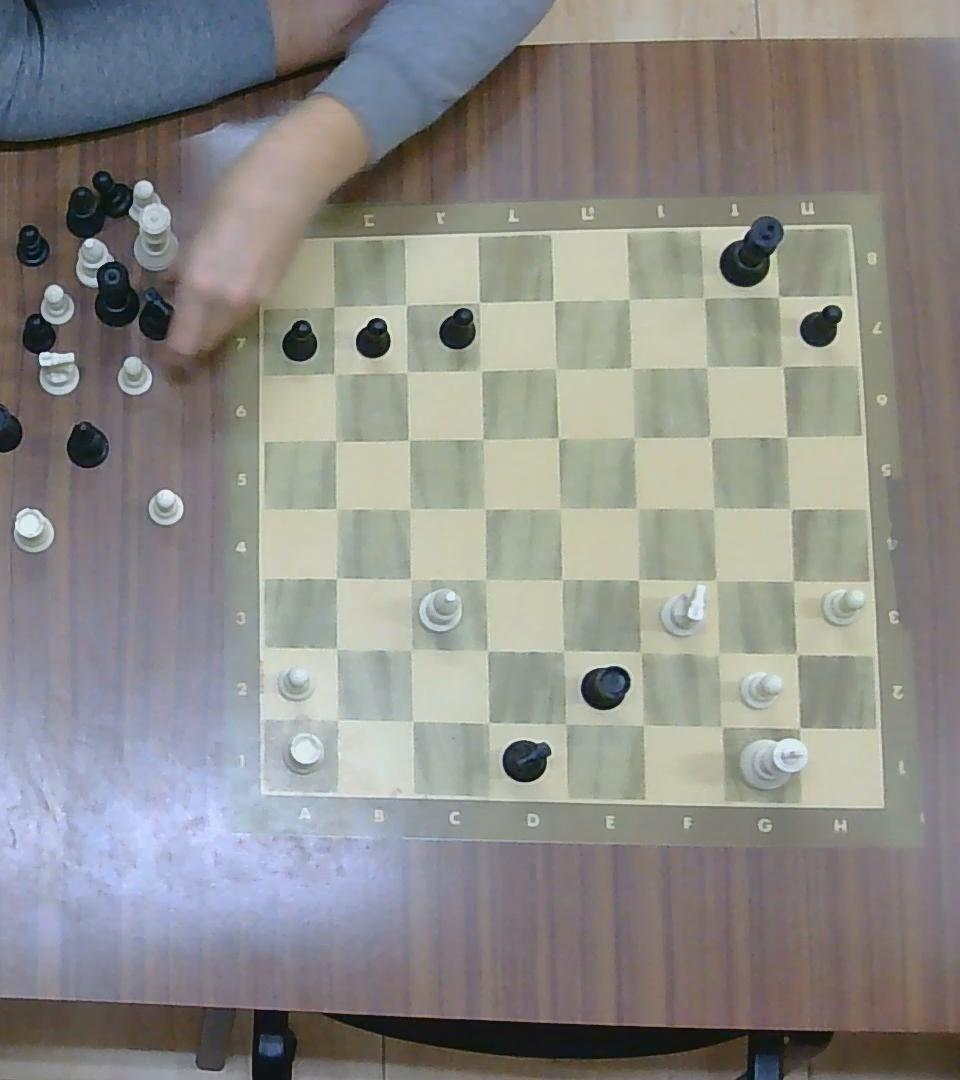xcorner: (781, 710, 815, 743), (701, 638, 735, 670), (705, 708, 736, 742), (548, 706, 580, 738), (626, 708, 658, 739), (320, 703, 352, 734), (472, 706, 503, 737), (781, 637, 812, 668), (625, 636, 656, 666), (396, 705, 427, 735), (471, 634, 501, 664), (623, 563, 652, 594), (622, 492, 651, 523), (548, 563, 577, 594), (700, 564, 730, 593), (698, 493, 728, 522), (395, 635, 425, 664), (615, 284, 645, 313), (470, 564, 500, 593), (776, 493, 806, 522), (471, 493, 500, 522), (321, 633, 350, 662), (617, 353, 646, 382), (777, 566, 807, 594), (548, 637, 578, 665), (547, 493, 575, 522), (545, 422, 573, 451), (321, 564, 350, 592), (395, 565, 424, 592), (621, 423, 649, 450), (395, 494, 423, 521), (468, 424, 495, 452), (323, 494, 351, 521), (394, 425, 422, 452), (693, 352, 721, 379), (543, 354, 571, 381), (769, 352, 797, 379), (692, 283, 719, 310), (321, 427, 349, 453), (467, 356, 495, 382), (699, 423, 725, 450), (773, 422, 799, 448), (541, 287, 567, 313), (393, 358, 419, 383), (322, 360, 348, 385), (467, 289, 491, 314), (767, 283, 791, 307), (394, 291, 418, 315), (323, 294, 345, 316)
